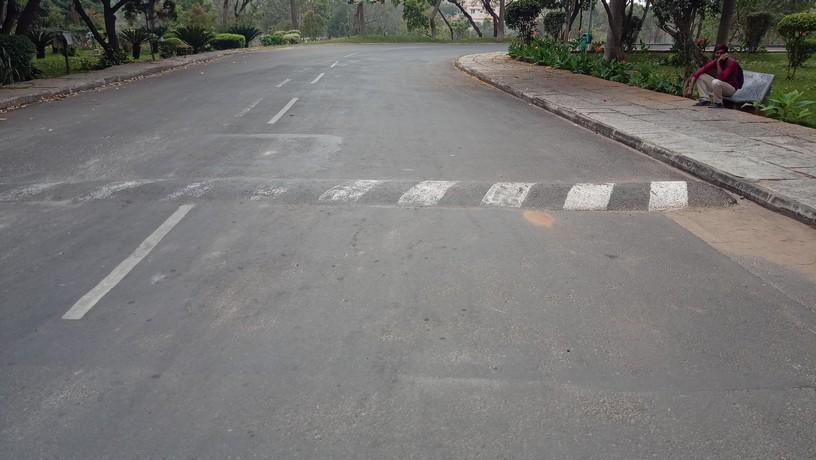speedbreaker: (1, 176, 737, 215)
